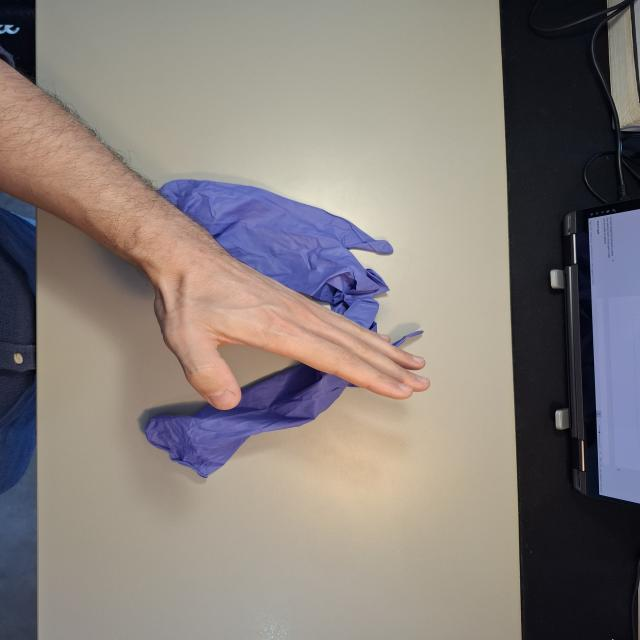glove_off: (149, 250, 431, 412)
